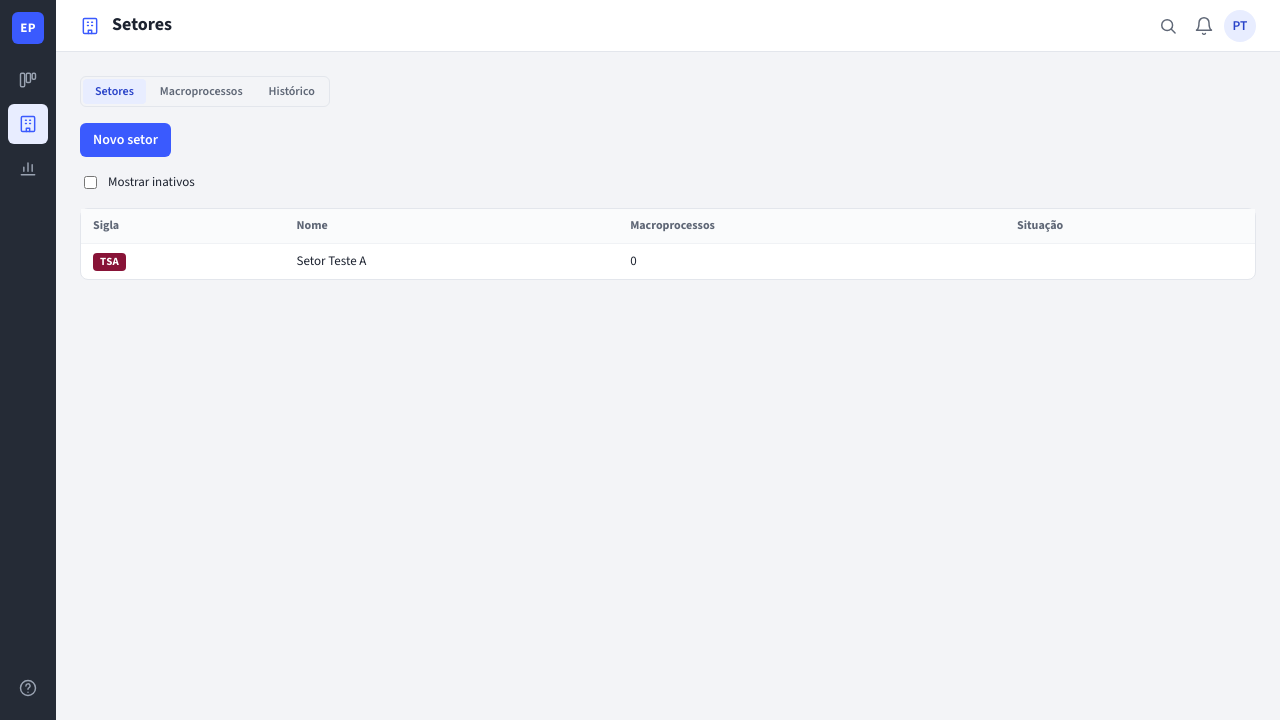
Test: vazio: "Este setor ainda não tem processos."
Step 1. Click the cell "TSA" → click(183, 262), box [81,244,284,279]
(page scrolled)
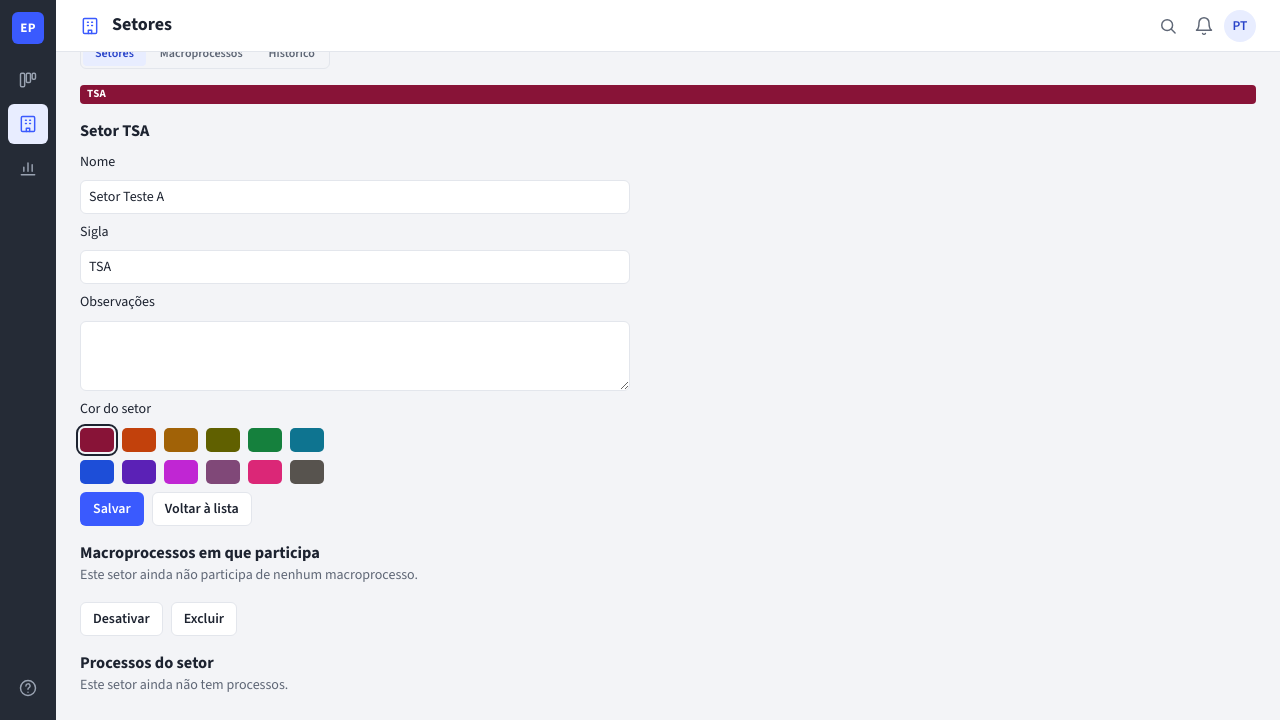
Now the text "Este setor ainda não tem processos." is shown, box [80,676,288,696]
